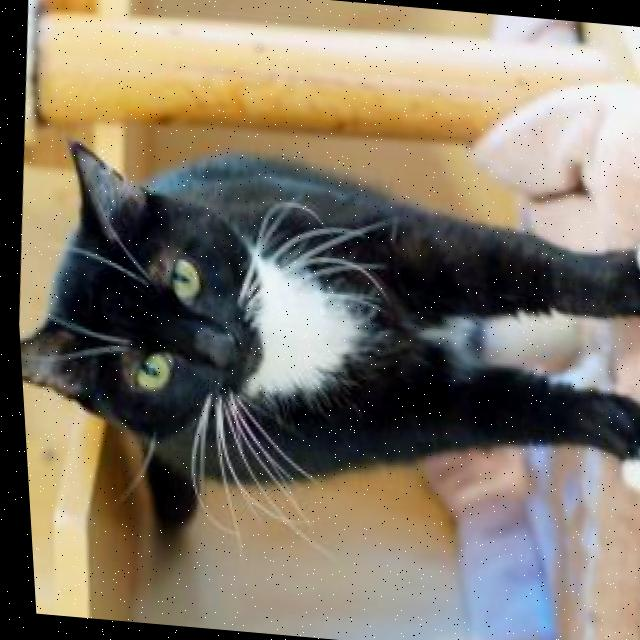Tuxedo: (6, 129, 640, 579)
